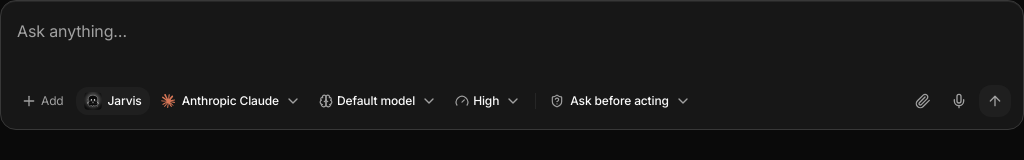
it: composer typeahead › asks the backend per keystroke for @ and keeps a folder pick open on its contents
The width and height of the screenshot is (1024, 160).
Type "look at @sr" into the text box with placeholder "Ask anything…" at x=512, y=45, box [13,13,1011,77]
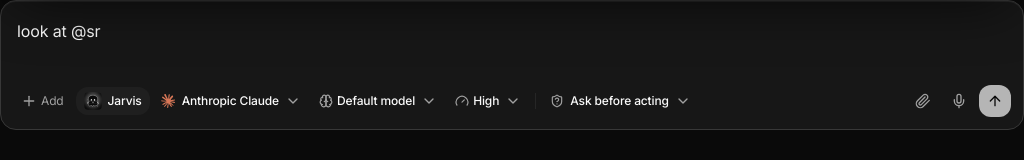
Press ArrowDown in the text box, box [13,13,1011,77]
Press ArrowUp in the text box, box [13,13,1011,77]
Press Tab in the text box, box [13,13,1011,77]
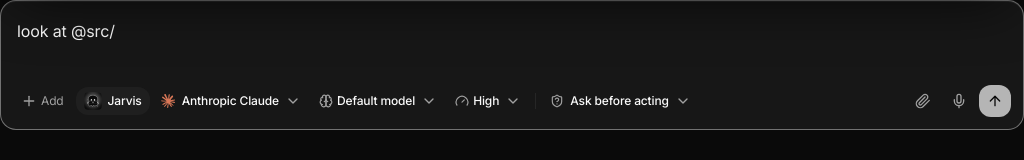
Check: the text box holds "look at @src/", box [13,13,1011,77]
